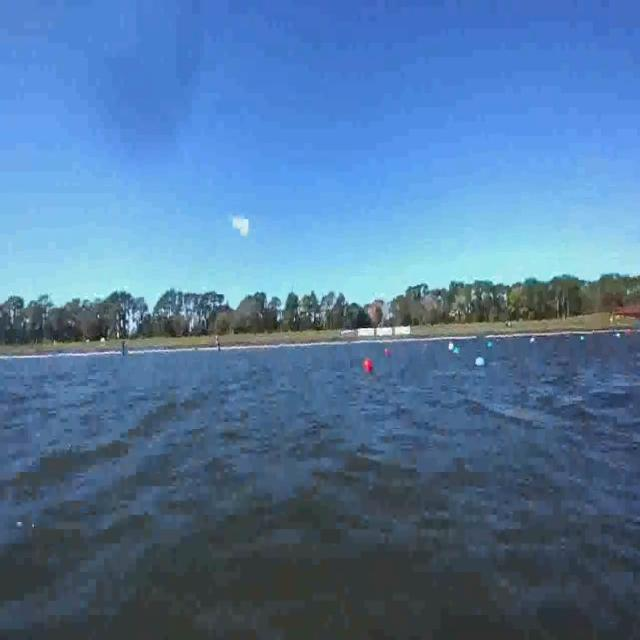green-buoy: (475, 357, 485, 367), (486, 338, 494, 348), (453, 346, 460, 356)
red-buoy: (363, 358, 373, 372), (384, 346, 392, 357)
yellow-buoy: (449, 340, 455, 350)
